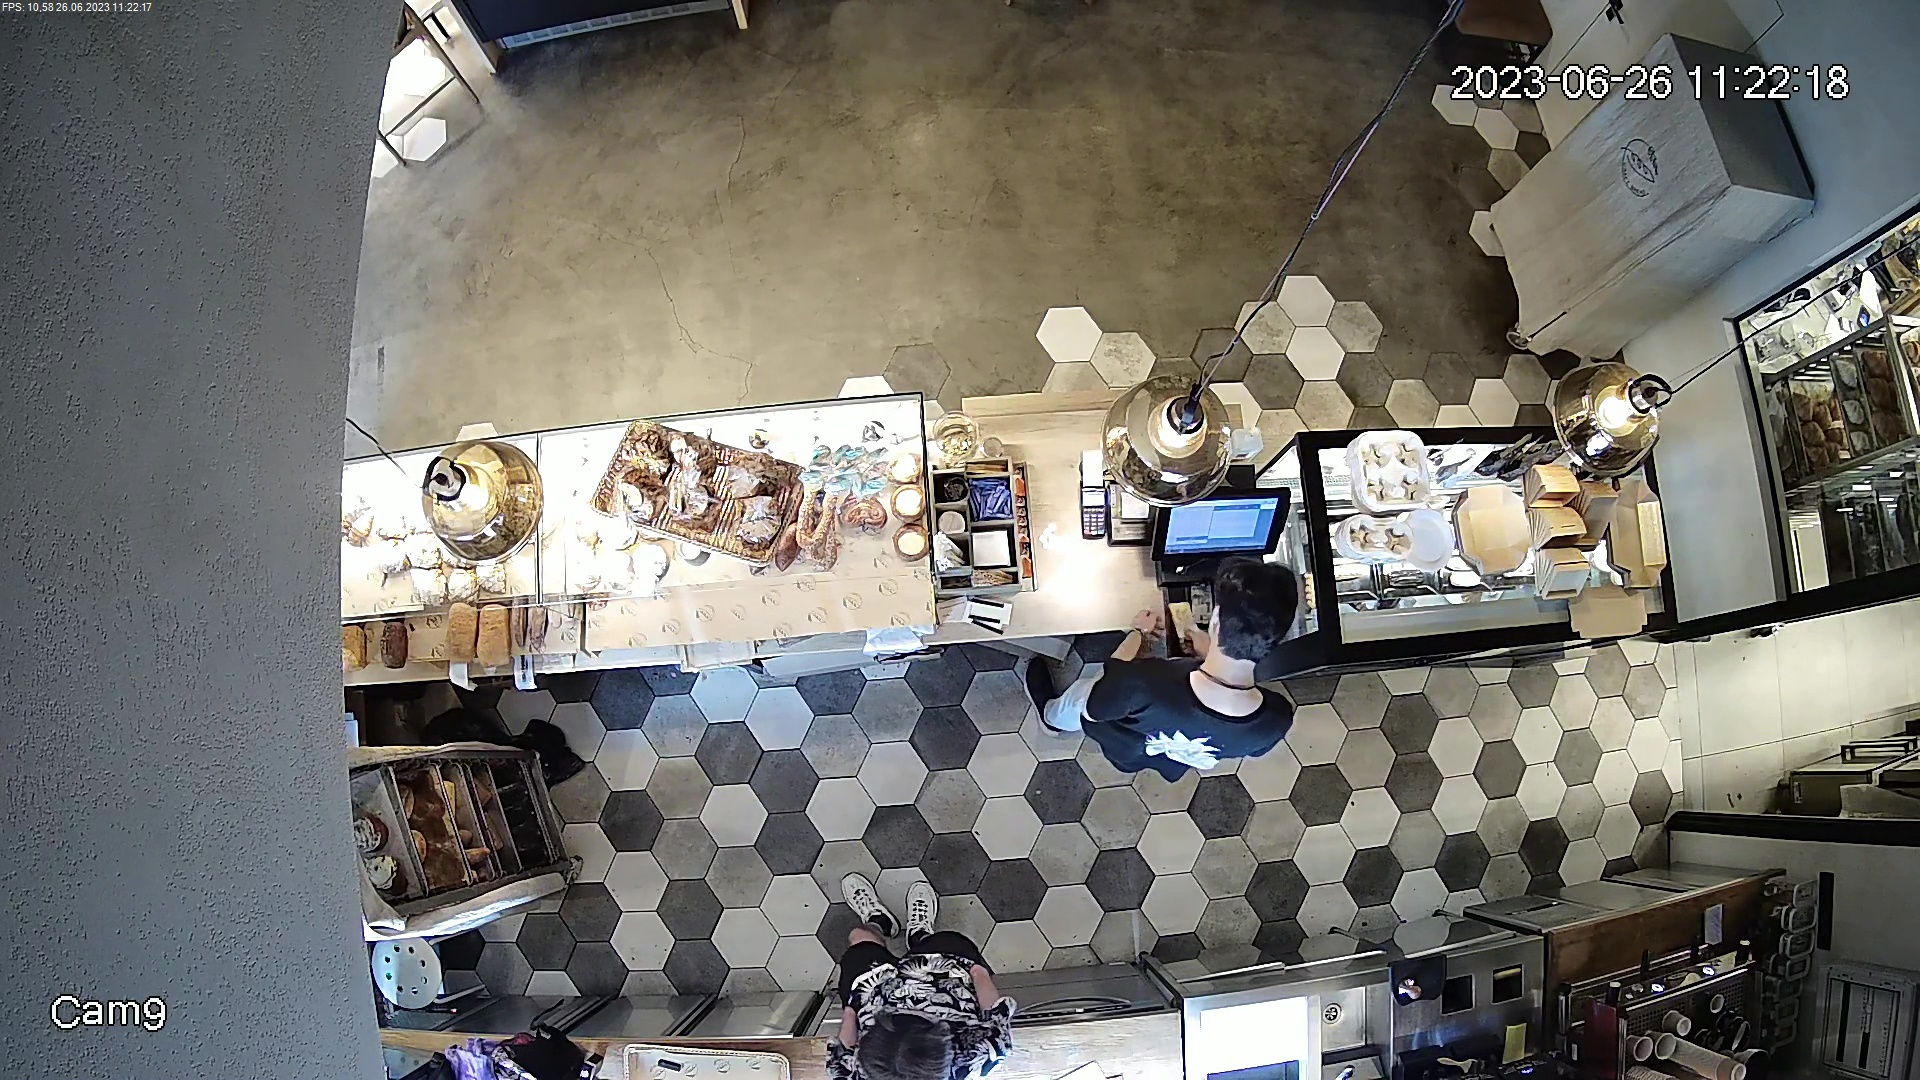openedcash: (1153, 487, 1294, 666)
